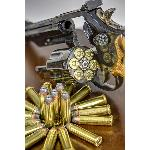Pistol: (25, 0, 125, 90)
